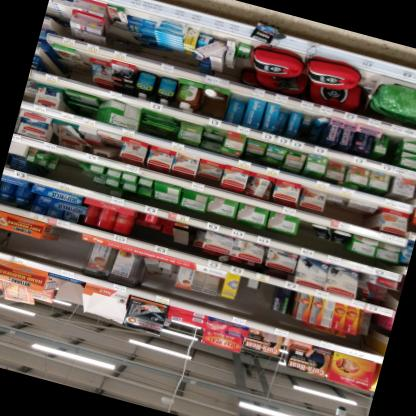empty_space: (80, 281, 131, 322), (49, 225, 90, 267), (50, 273, 85, 308), (251, 278, 277, 316)
